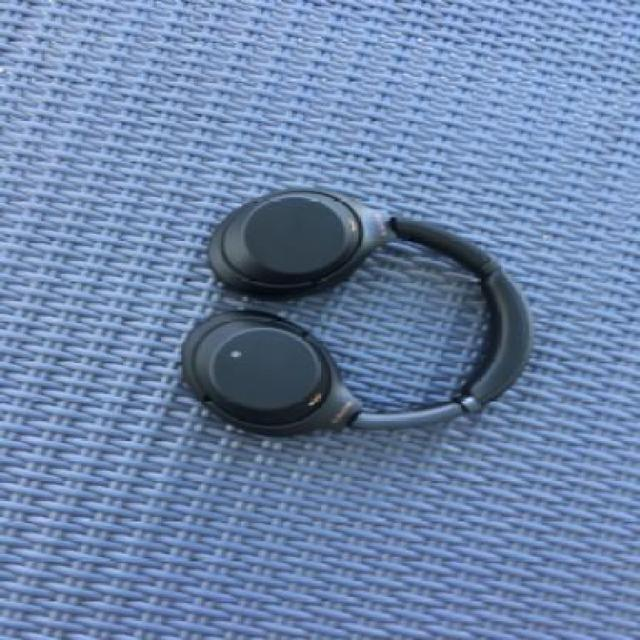earphone: (188, 120, 540, 465)
